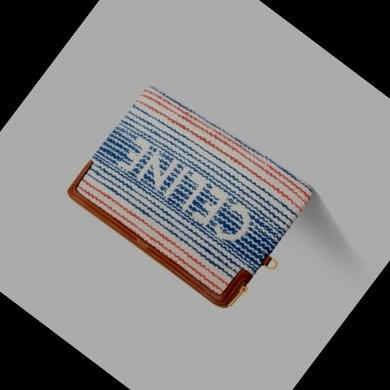CELINE: (114, 128, 256, 250)
